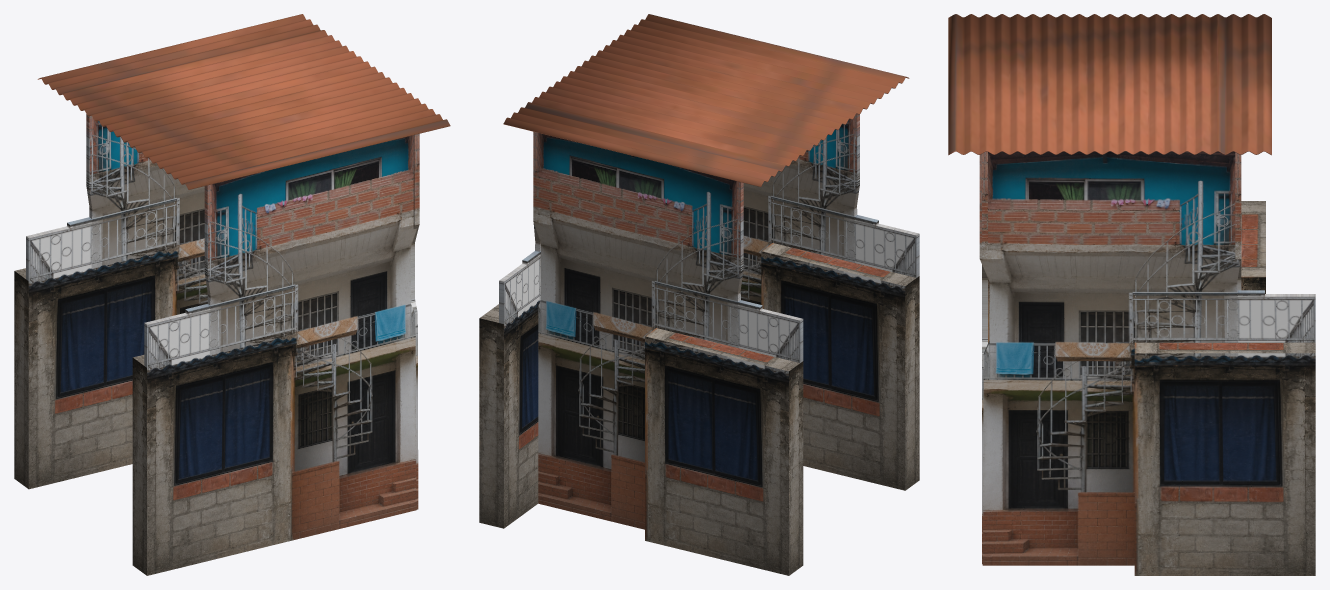
Rendered from casa_2_derecha_01.fbx.
3 views of the same model, side by side, from view 1: azimuth 30°, elevation 25°; view 2: azimuth 150°, elevation 25°; view 3: azimuth 270°, elevation 25° (orthographic). The views are drawn at different scales.
Visible parts, largest first — view 1: casa_camino2_derecha_01.002, casa_camino2_derecha_01.001, Techo_01, casa_camino2_derecha_01; view 2: casa_camino2_derecha_01.001, casa_camino2_derecha_01.002, Techo_01, casa_camino2_derecha_01; view 3: casa_camino2_derecha_01, Techo_01, casa_camino2_derecha_01.001, casa_camino2_derecha_01.002.
Boxes of the visible parts, box(x1,y1,x2,y2) form: casa_camino2_derecha_01.002: box(132, 135, 416, 575); casa_camino2_derecha_01.001: box(14, 114, 207, 489); Techo_01: box(37, 14, 450, 189); casa_camino2_derecha_01: box(410, 134, 419, 509); casa_camino2_derecha_01.001: box(533, 131, 803, 575); casa_camino2_derecha_01.002: box(740, 114, 919, 490); Techo_01: box(503, 14, 909, 186); casa_camino2_derecha_01: box(479, 223, 540, 528); casa_camino2_derecha_01: box(979, 151, 1315, 575); Techo_01: box(948, 14, 1271, 155); casa_camino2_derecha_01.001: box(1235, 152, 1265, 293); casa_camino2_derecha_01.002: box(982, 151, 989, 564).
Size of the model in its own units: 541 by 701 by 552.
